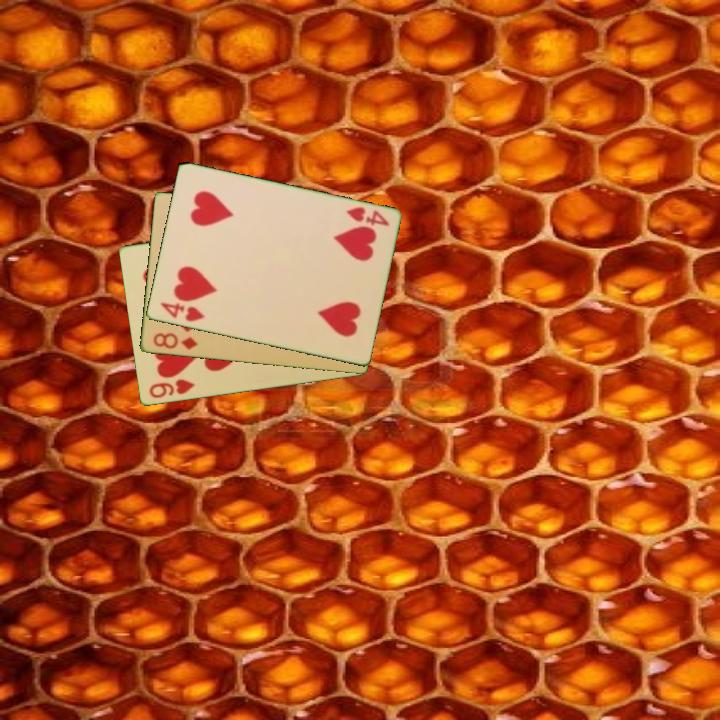4h: (156, 299, 208, 325), (343, 203, 392, 229)
8d: (149, 329, 200, 353)
9h: (145, 376, 198, 401)
